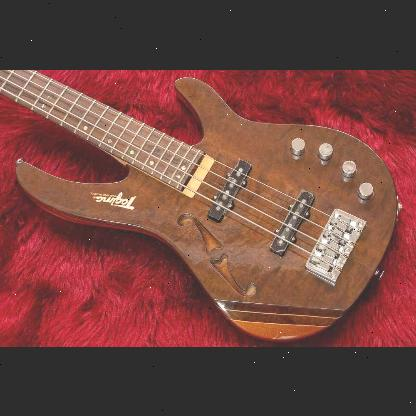bass: (0, 69, 402, 343)
